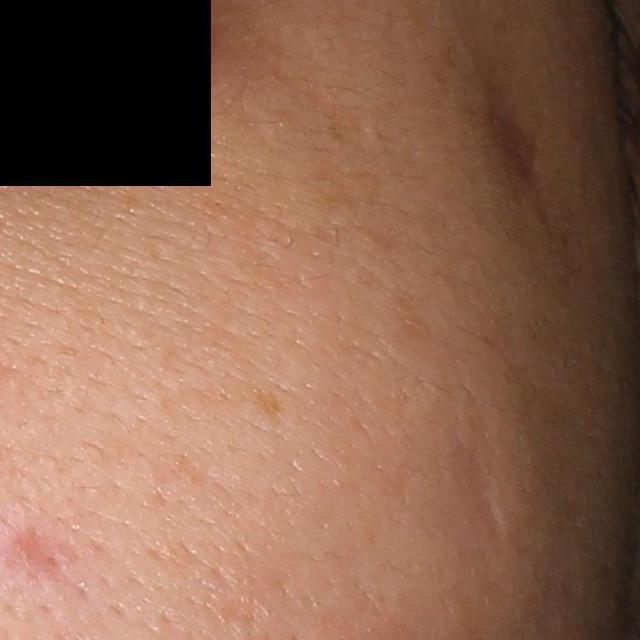atrophic_scar: (477, 85, 545, 184), (451, 448, 507, 558), (11, 524, 80, 594)
melasma: (252, 387, 282, 424)
